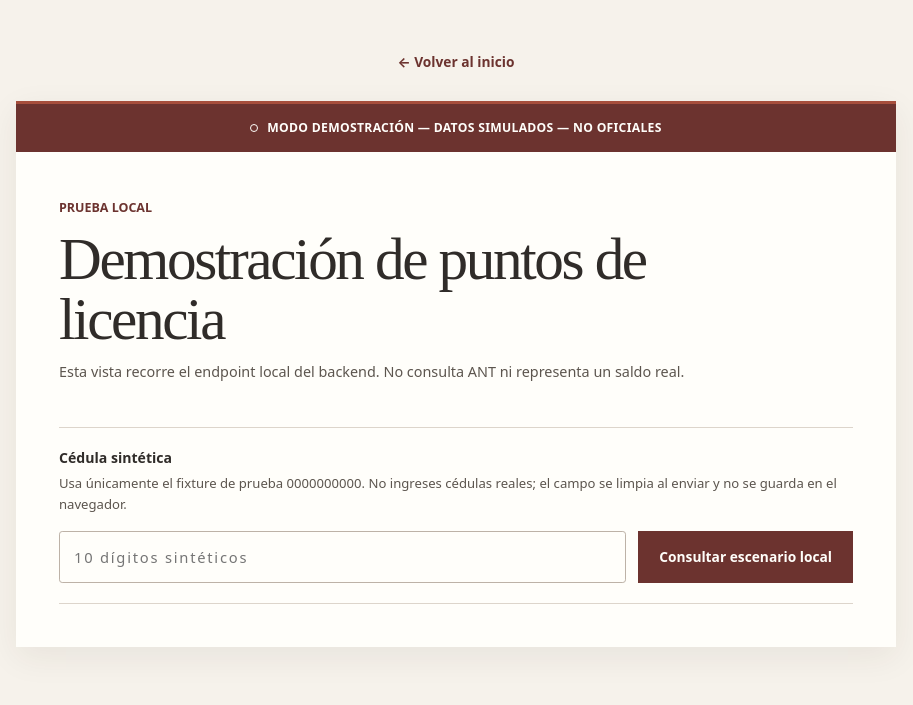
demostración local de puntos ANT › muestra el estado de carga mientras espera al backend local
Later steps or results of the test are not shown.
Type "0000000000" into the field labelled "Cédula sintética" at (343, 557), box [59, 531, 626, 583]
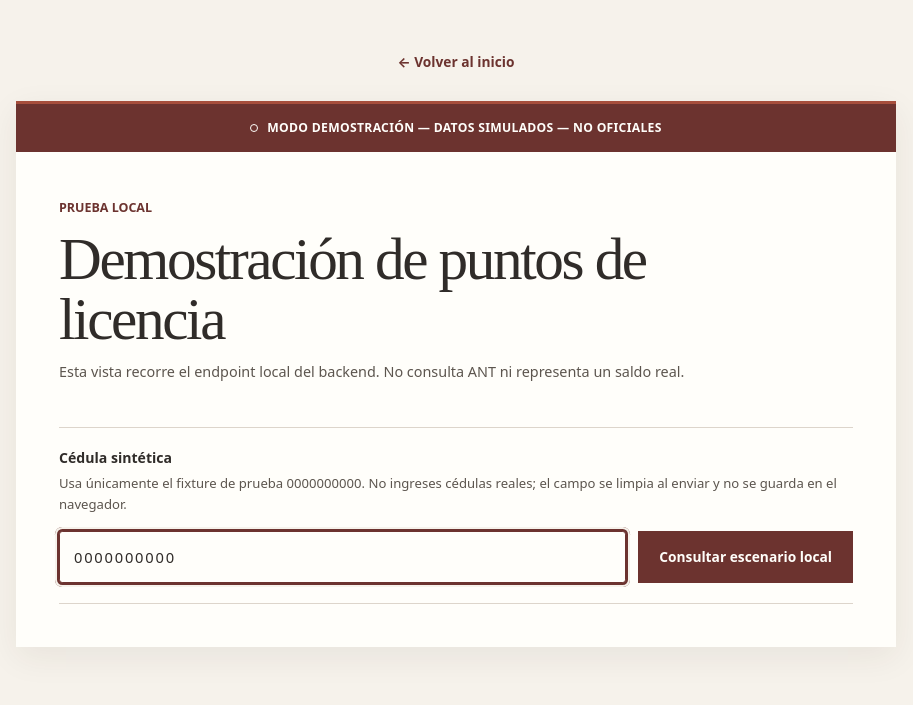
Click the button "Consultar escenario local" at (746, 557), box [638, 531, 853, 583]
(page scrolled)
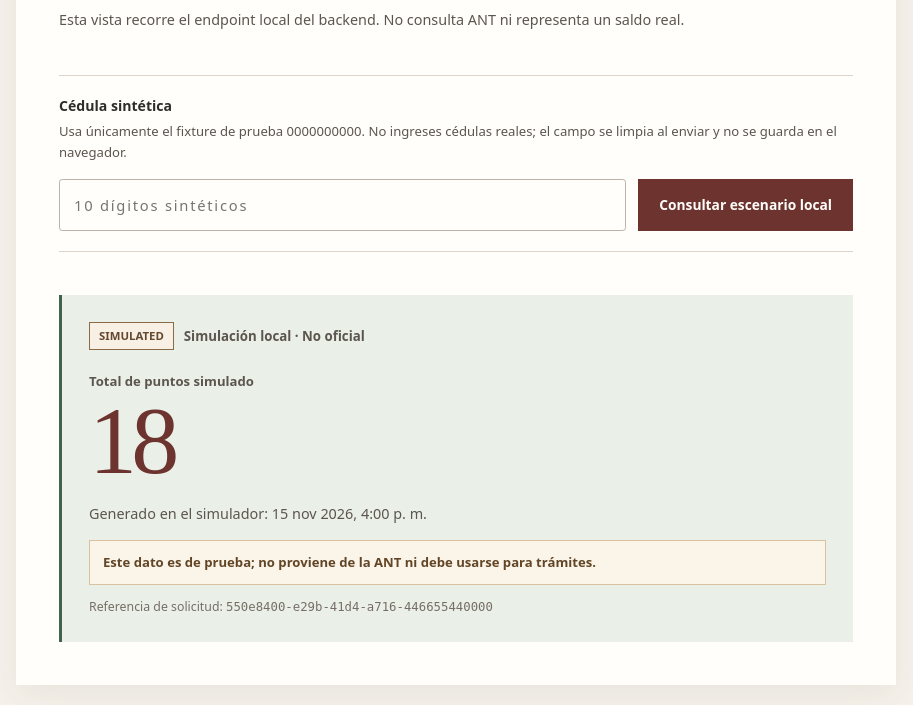
Now the message named "Resultado simulado" is shown, box [59, 295, 853, 642]
